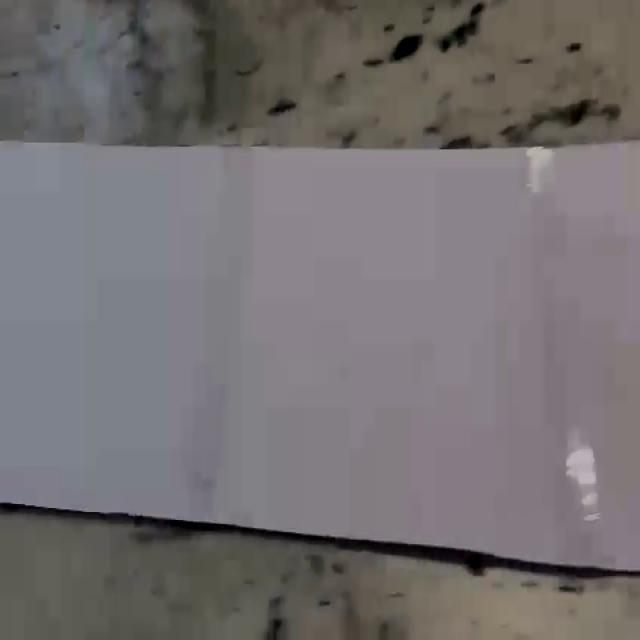road: (0, 140, 640, 571)
